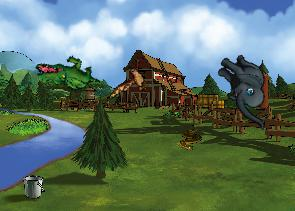crocodile: (33, 49, 100, 99)
eagle: (106, 54, 156, 110)
elephant: (201, 48, 289, 130)
